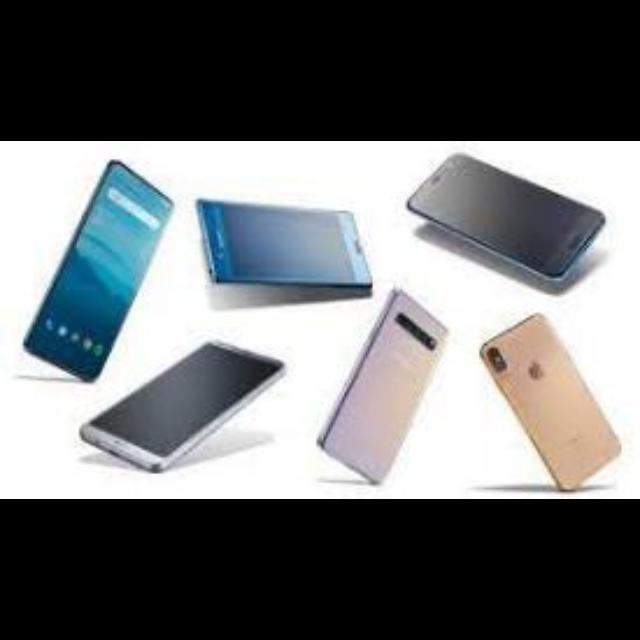phone: (17, 159, 160, 378), (477, 326, 640, 498), (315, 306, 453, 493), (128, 321, 293, 477), (410, 154, 606, 285), (197, 201, 374, 299), (60, 400, 122, 464)
